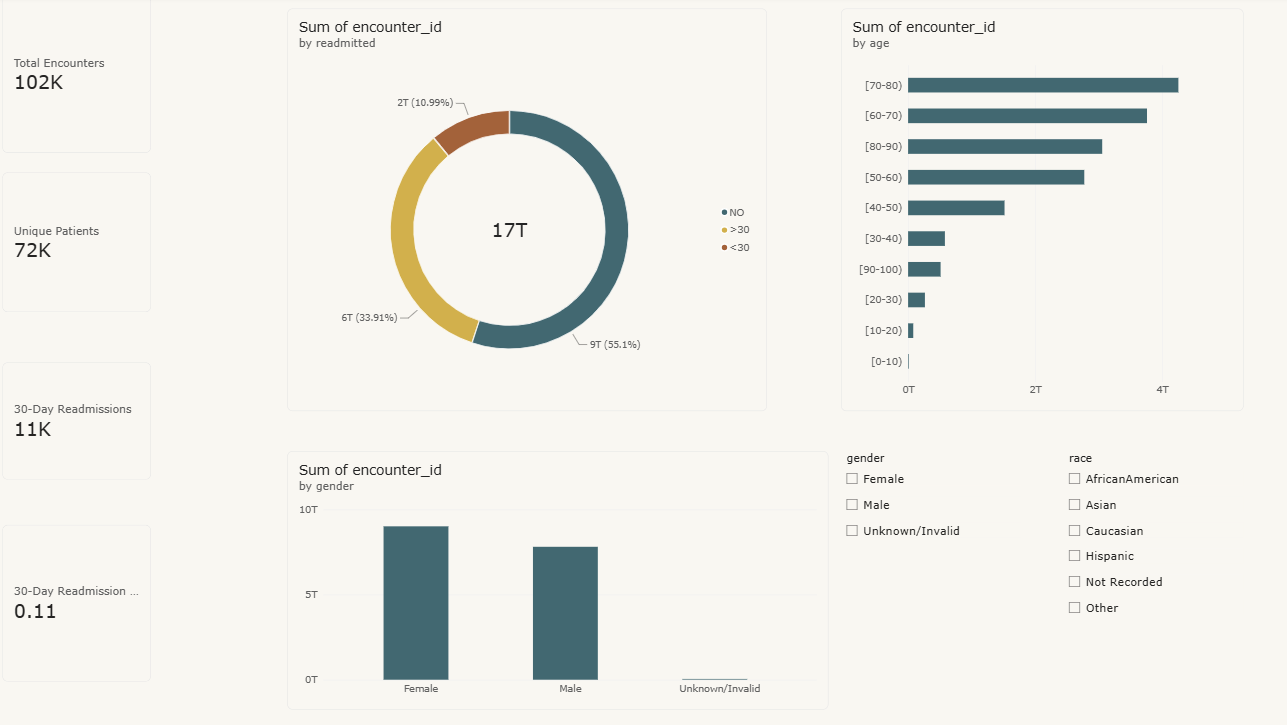

What the dashboard file says about the page in this screenshot:
{"tool":"powerbi","page":{"name":"Healthcare Overview","canvas":[1920,1080],"ordinal":0},"visuals":[{"type":"cardVisual","fields":{"Data":["diabetic_data_cleaned.Total Encounters"]},"box":[9.2,0,219,231.9],"z":0},{"type":"cardVisual","fields":{"Data":["diabetic_data_cleaned.Unique Patients"]},"box":[9.2,259.5,219,206.1],"z":1000},{"type":"cardVisual","fields":{"Data":["diabetic_data_cleaned.30-Day Readmissions"]},"box":[9.2,539.3,219,173],"z":2000},{"type":"cardVisual","fields":{"Data":["diabetic_data_cleaned.30-Day Readmission Rate"]},"box":[9.2,778.5,219,231.9],"z":3000},{"type":"donutChart","fields":{"Category":["diabetic_data_cleaned.readmitted"],"Y":["Sum(diabetic_data_cleaned.encounter_id)"]},"box":[428.8,18.4,706.8,592.6],"z":3001},{"type":"barChart","fields":{"Category":["diabetic_data_cleaned.age"],"Y":["Sum(diabetic_data_cleaned.encounter_id)"]},"box":[1244.2,18.4,592.6,592.6],"z":3003},{"type":"columnChart","fields":{"Category":["diabetic_data_cleaned.gender"],"Y":["Sum(diabetic_data_cleaned.encounter_id)"]},"box":[428.8,669.9,796.9,381],"z":3004},{"type":"slicer","fields":{"Values":["diabetic_data_cleaned.gender"]},"box":[1244.2,669.9,265,149.1],"z":3005},{"type":"slicer","fields":{"Values":["diabetic_data_cleaned.race"]},"box":[1571.8,669.9,265,381],"z":3006}]}

Visuals, with their boxes in screenshot pixels (x1, y1, x2, y2), scaled from the page's 1920x1080 canvas onto the 1287x725 screenshot:
cardVisual - diabetic_data_cleaned.Total Encounters: Rect(6, 0, 153, 156)
cardVisual - diabetic_data_cleaned.Unique Patients: Rect(6, 174, 153, 313)
cardVisual - diabetic_data_cleaned.30-Day Readmissions: Rect(6, 362, 153, 478)
cardVisual - diabetic_data_cleaned.30-Day Readmission Rate: Rect(6, 523, 153, 678)
donutChart - diabetic_data_cleaned.readmitted x Sum(diabetic_data_cleaned.encounter_id): Rect(287, 12, 761, 410)
barChart - diabetic_data_cleaned.age x Sum(diabetic_data_cleaned.encounter_id): Rect(834, 12, 1231, 410)
columnChart - diabetic_data_cleaned.gender x Sum(diabetic_data_cleaned.encounter_id): Rect(287, 450, 822, 705)
slicer - diabetic_data_cleaned.gender: Rect(834, 450, 1012, 550)
slicer - diabetic_data_cleaned.race: Rect(1054, 450, 1231, 705)
